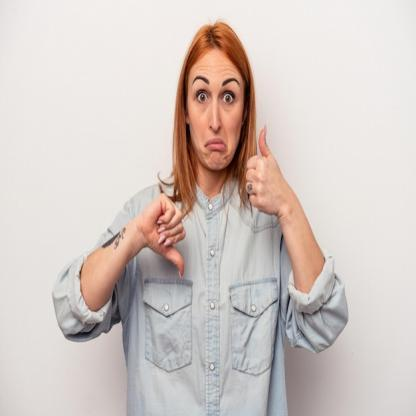thumb_down: (140, 189, 188, 281)
thumb_up: (241, 122, 288, 219)
